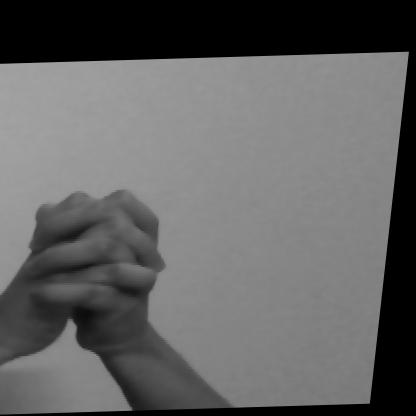prayer: (0, 150, 240, 389)
